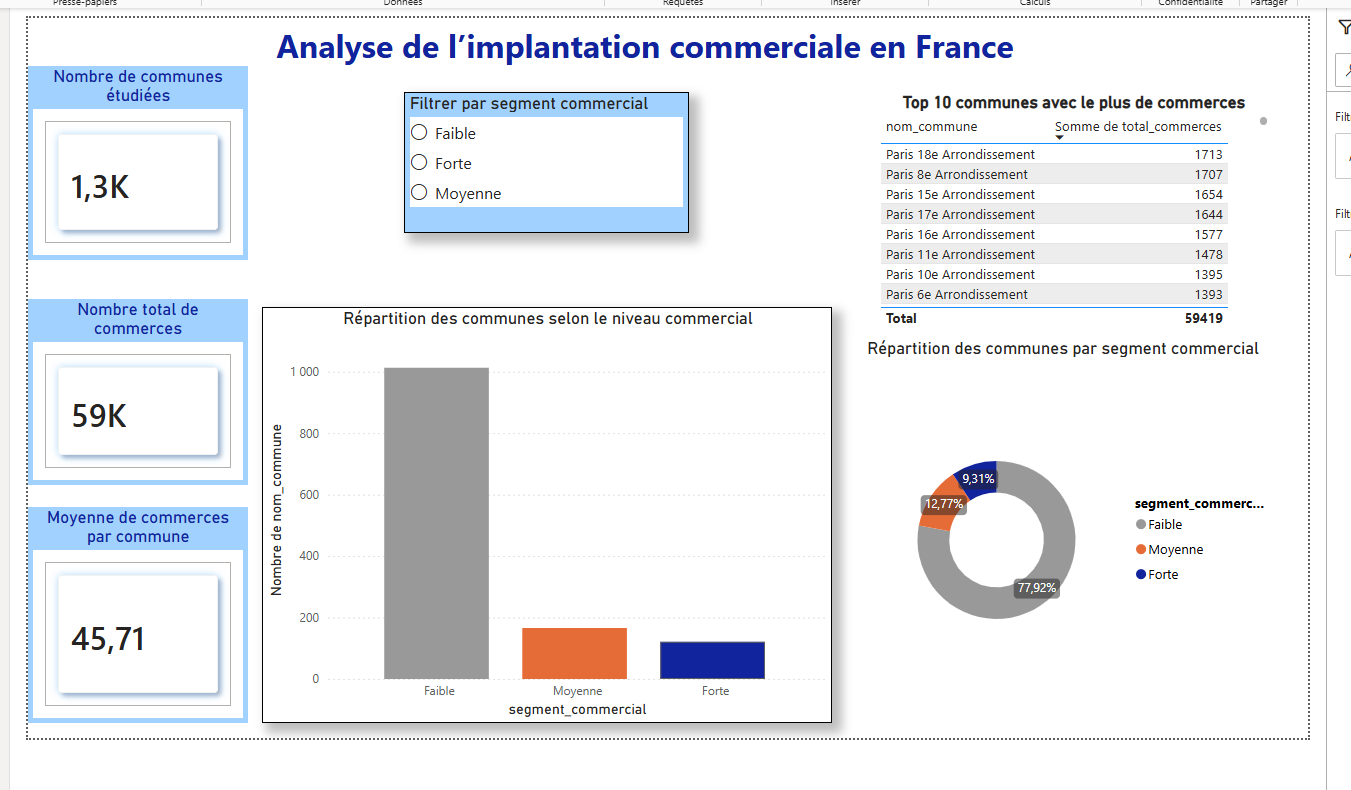

This screenshot's page, from the dashboard's own definition file:
{"tool":"powerbi","page":{"name":"Page 1","canvas":[1280,720],"ordinal":0},"visuals":[{"type":"cardVisual","title":"Nombre de communes étudiées","fields":{"Data":["CountNonNull(DWH_Commerces_Commune.nom_commune)"]},"box":[0,48,220,194],"z":0},{"type":"cardVisual","title":"Nombre total de commerces","fields":{"Data":["Sum(DWH_Commerces_Commune.total_commerces)"]},"box":[0,281,220,186],"z":1000},{"type":"cardVisual","title":"Moyenne de commerces par commune","fields":{"Data":["Avg(DWH_Commerces_Commune.total_commerces)"]},"box":[0,489,220,216],"z":2000},{"type":"clusteredColumnChart","title":"Répartition des communes selon le niveau commercial","fields":{"Category":["DWH_Commerces_Commune.segment_commercial"],"Y":["CountNonNull(DWH_Commerces_Commune.nom_commune)"]},"box":[234,289,570,416],"z":3000},{"type":"donutChart","title":"Répartition des communes par segment commercial","fields":{"Category":["DWH_Commerces_Commune.segment_commercial"],"Y":["CountNonNull(DWH_Commerces_Commune.nom_commune)"]},"box":[825,320,420,385],"z":4000},{"type":"tableEx","title":"Top 10 communes avec le plus de commerces","fields":{"Values":["DWH_Commerces_Commune.nom_commune","Sum(DWH_Commerces_Commune.total_commerces)"]},"box":[847,74,398,240],"z":5000},{"type":"listSlicer","title":"Filtrer par segment commercial","fields":{"Values":["DWH_Commerces_Commune.segment_commercial"]},"box":[376,74,285,141],"z":5001},{"type":"textbox","box":[234,0,766,61],"z":5002}]}

Visuals, with their boxes in screenshot pixels (x1, y1, x2, y2):
"Nombre de communes étudiées" cardVisual: <bbox>21, 80, 242, 275</bbox>
"Nombre total de commerces" cardVisual: <bbox>21, 314, 242, 501</bbox>
"Moyenne de commerces par commune" cardVisual: <bbox>21, 523, 242, 739</bbox>
"Répartition des communes selon le niveau commercial" clusteredColumnChart: <bbox>256, 322, 828, 739</bbox>
"Répartition des communes par segment commercial" donutChart: <bbox>849, 353, 1271, 739</bbox>
"Top 10 communes avec le plus de commerces" tableEx: <bbox>871, 106, 1271, 347</bbox>
"Filtrer par segment commercial" listSlicer: <bbox>399, 106, 685, 248</bbox>
textbox: <bbox>256, 32, 1025, 93</bbox>
